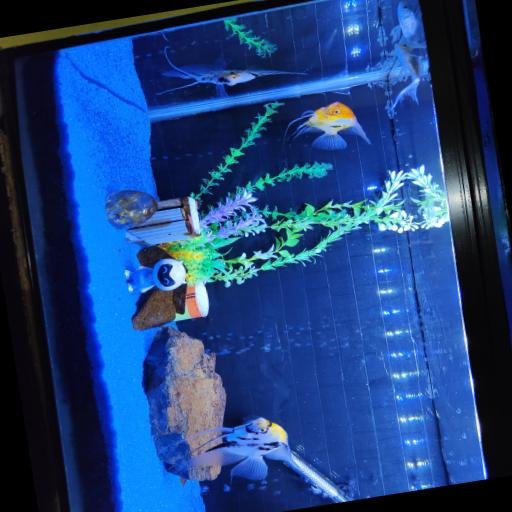Fish: (169, 418, 293, 480), (157, 47, 304, 97), (285, 102, 369, 150), (390, 43, 422, 109), (389, 2, 425, 48), (321, 29, 336, 52)
